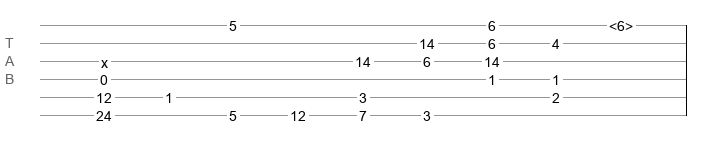0: (100, 72, 108, 82)
1: (165, 90, 173, 100), (488, 72, 496, 82), (552, 72, 560, 82)
12: (96, 90, 112, 100), (290, 108, 306, 118)
14: (355, 54, 371, 64), (419, 36, 435, 46), (484, 54, 500, 64)
2: (552, 90, 560, 100)
24: (96, 108, 112, 118)
3: (359, 90, 367, 100), (423, 108, 431, 118)
4: (552, 36, 560, 46)
5: (229, 108, 237, 118), (229, 18, 237, 28)
6: (423, 54, 431, 64), (488, 18, 496, 28), (488, 36, 496, 46)
7: (359, 108, 367, 118)
harmonic: (609, 18, 633, 28)
x: (101, 55, 108, 63)
